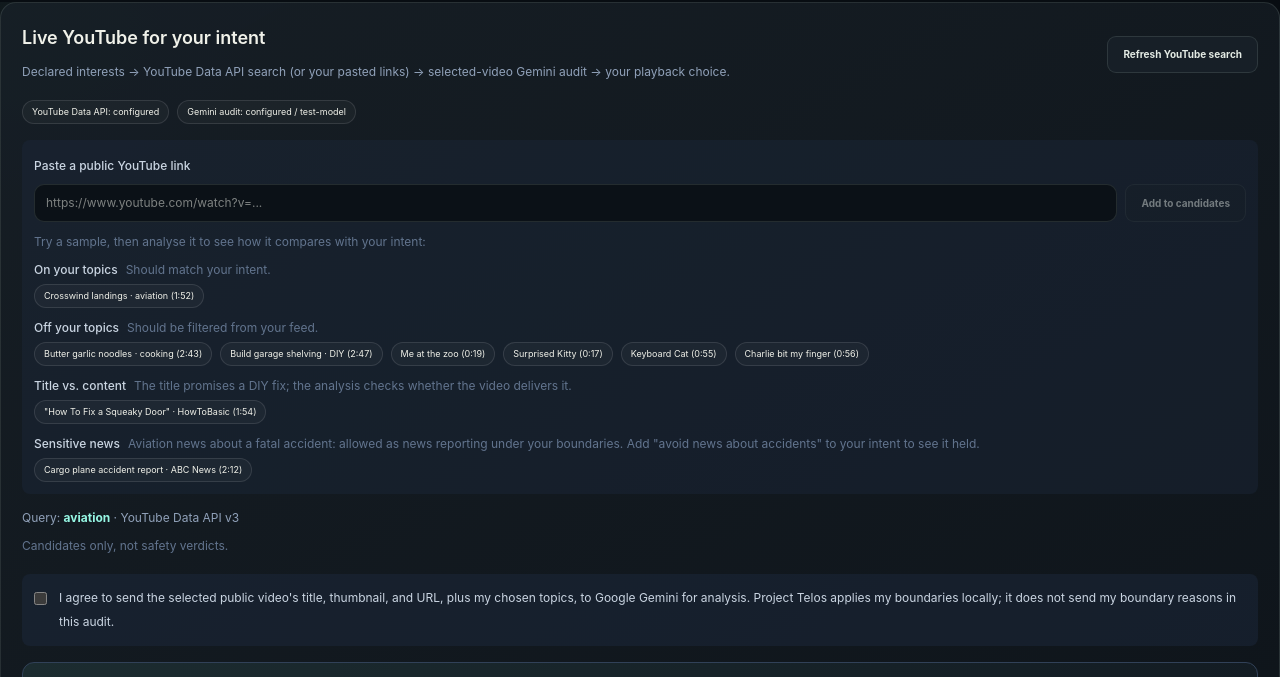
YouTube discovery › surfaces model failure without loading a player or returning a fixture
Click the checkbox labelled "I agree to send" at [40, 598], box [34,592,47,605]
(page scrolled)
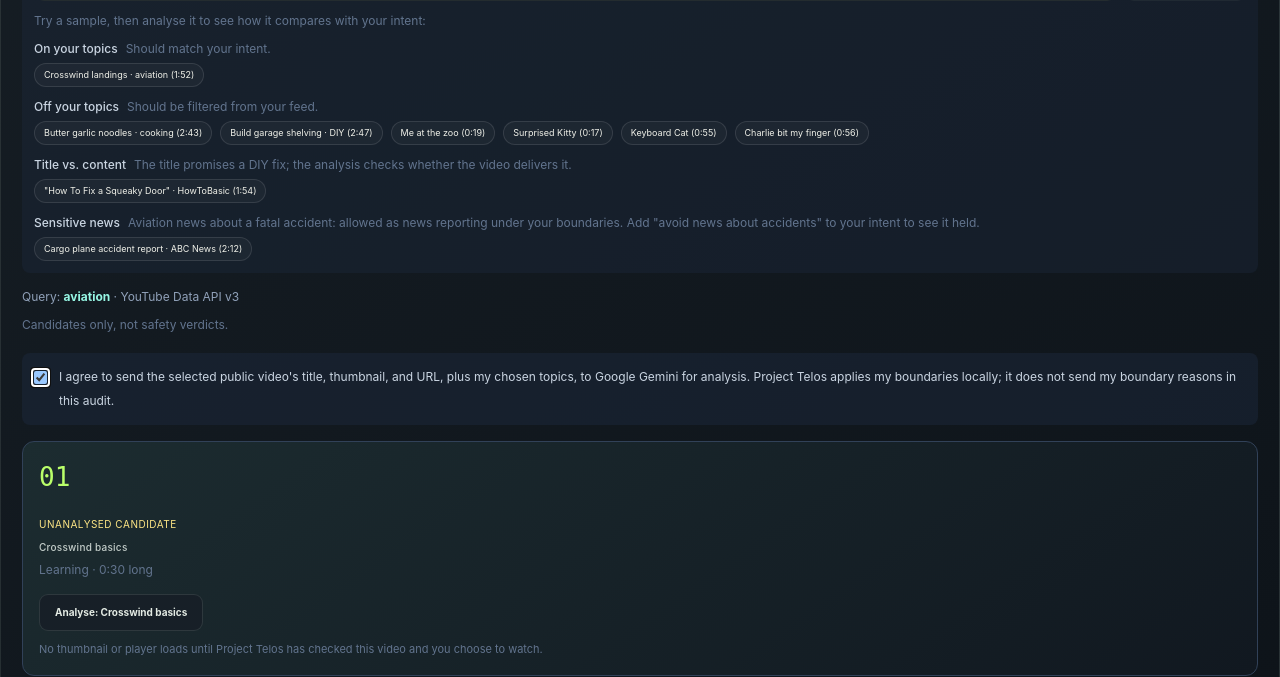
Click the button "Analyse: Crosswind basics" at [121, 613], box [39,594,203,631]
(page scrolled)
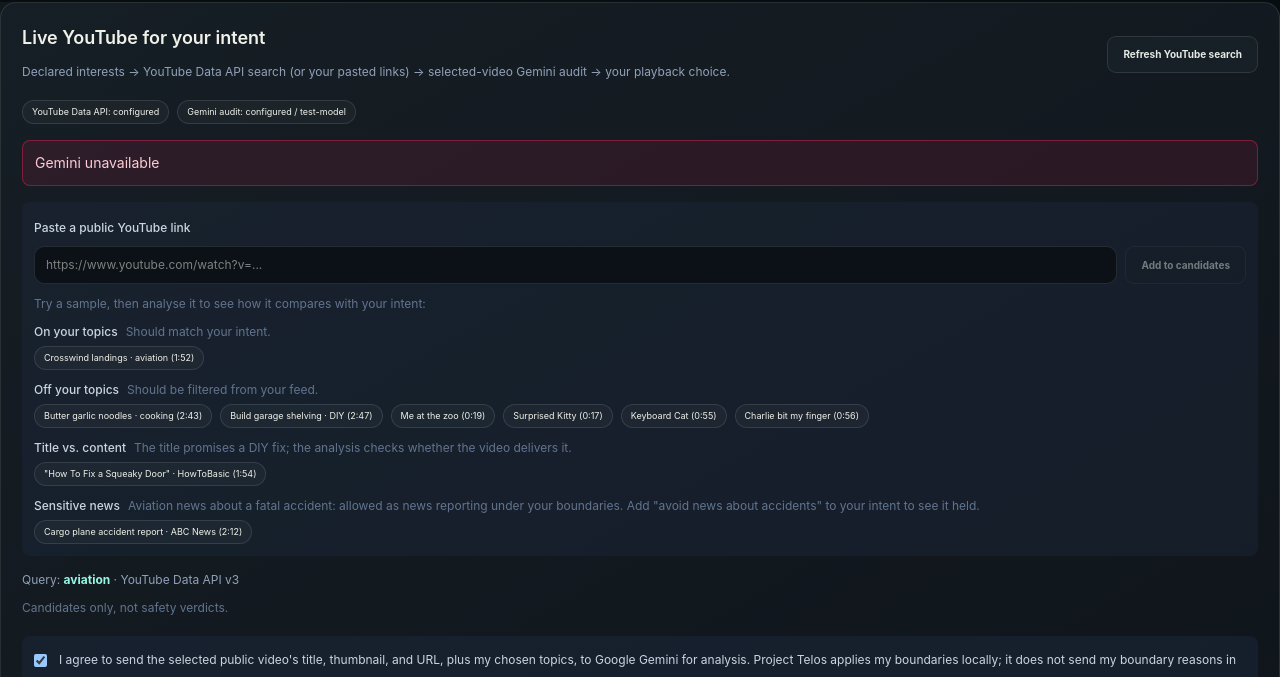
Check: the message reads "Gemini unavailable", box [35,154,160,171]
